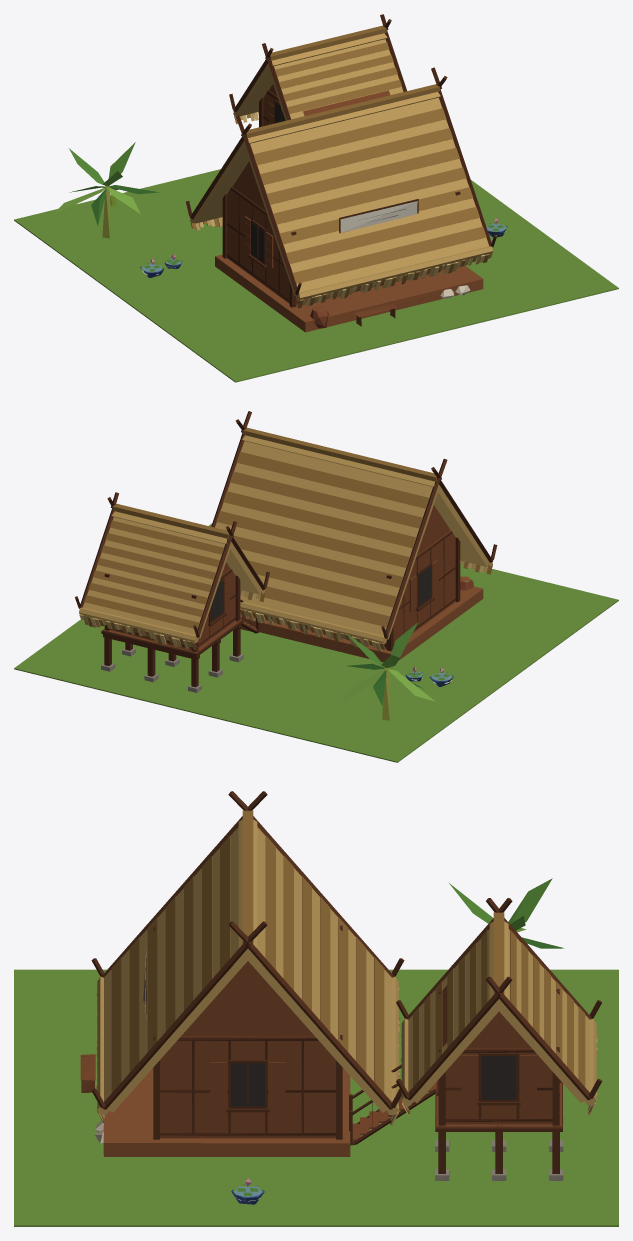
File: shop_2.glb
3 views of the same model, one above another, from view 1: azimuth 30°, elevation 25°; view 2: azimuth 150°, elevation 25°; view 3: azimuth 270°, elevation 25° (orthographic). The views are drawn at different scales.
Parts seen in each view (by area): view 1: body, windows; view 2: body, windows; view 3: body, windows.
Boxes of the visible parts, box(x1,y1,x2,y2) form: body: box(14, 14, 618, 382); windows: box(251, 102, 285, 262); body: box(14, 411, 618, 762); windows: box(211, 565, 431, 621); body: box(14, 791, 618, 1226); windows: box(231, 1056, 516, 1106).
Size of the model in its own units: 15.91 by 7.09 by 15.9.
